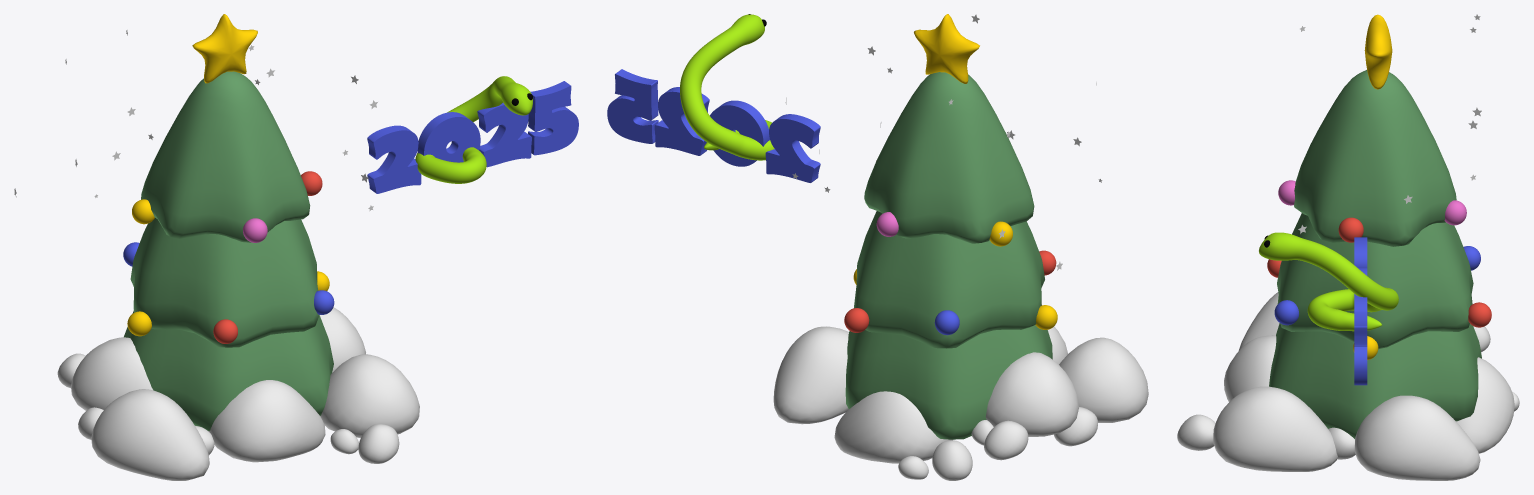
The picture shows the model from 3 angles, left to right: view 1: azimuth 30°, elevation 25°; view 2: azimuth 150°, elevation 25°; view 3: azimuth 270°, elevation 25°; orthographic projection.
Visible parts, largest first — view 1: Cylinder.003, Cylinder.001, Cylinder.002, Text, Sphere.018, Sphere.002, Sphere.001, Sphere.003, Zmeya, Zvezda, Sphere.005; view 2: Cylinder.003, Cylinder.001, Cylinder.002, Text, Sphere.004, Sphere.003, Sphere.018, Sphere.005, Zmeya, Zvezda; view 3: Cylinder.003, Cylinder.002, Cylinder.001, Sphere.002, Sphere.005, Zmeya, Sphere.004, Sphere.001, Text, Zvezda, Sphere.018, Sphere (+4 smaller).
Part boxes in pixels (box(x1,y1,x2,y2)): Cylinder.003: box(141, 71, 310, 242); Cylinder.001: box(130, 218, 319, 347); Cylinder.002: box(124, 310, 333, 430); Text: box(367, 81, 578, 193); Sphere.018: box(78, 389, 209, 480); Sphere.002: box(320, 354, 419, 463); Sphere.001: box(195, 380, 325, 462); Sphere.003: box(57, 337, 152, 410); Zmeya: box(415, 76, 532, 183); Zvezda: box(192, 14, 257, 83); Sphere.005: box(319, 307, 365, 372); Cylinder.003: box(864, 72, 1034, 243); Cylinder.001: box(854, 211, 1044, 348); Cylinder.002: box(845, 325, 1052, 439); Text: box(607, 69, 820, 182); Sphere.004: box(834, 391, 972, 480); Sphere.003: box(971, 352, 1078, 460); Sphere.018: box(1054, 337, 1148, 446); Sphere.005: box(773, 326, 848, 424); Zmeya: box(680, 14, 774, 160); Zvezda: box(914, 14, 979, 83); Cylinder.003: box(1294, 70, 1456, 246); Cylinder.002: box(1269, 323, 1481, 438); Cylinder.001: box(1277, 213, 1473, 348); Sphere.002: box(1177, 386, 1337, 471); Sphere.005: box(1328, 395, 1480, 480); Zmeya: box(1259, 232, 1398, 331); Sphere.004: box(1456, 357, 1519, 453); Sphere.001: box(1224, 335, 1276, 401); Text: box(1354, 237, 1367, 385); Zvezda: box(1364, 14, 1392, 89); Sphere.018: box(1238, 292, 1279, 350); Sphere: box(1274, 300, 1298, 325).
Bounding box in the file's own units: 2.34 × 1.81 × 1.36.
